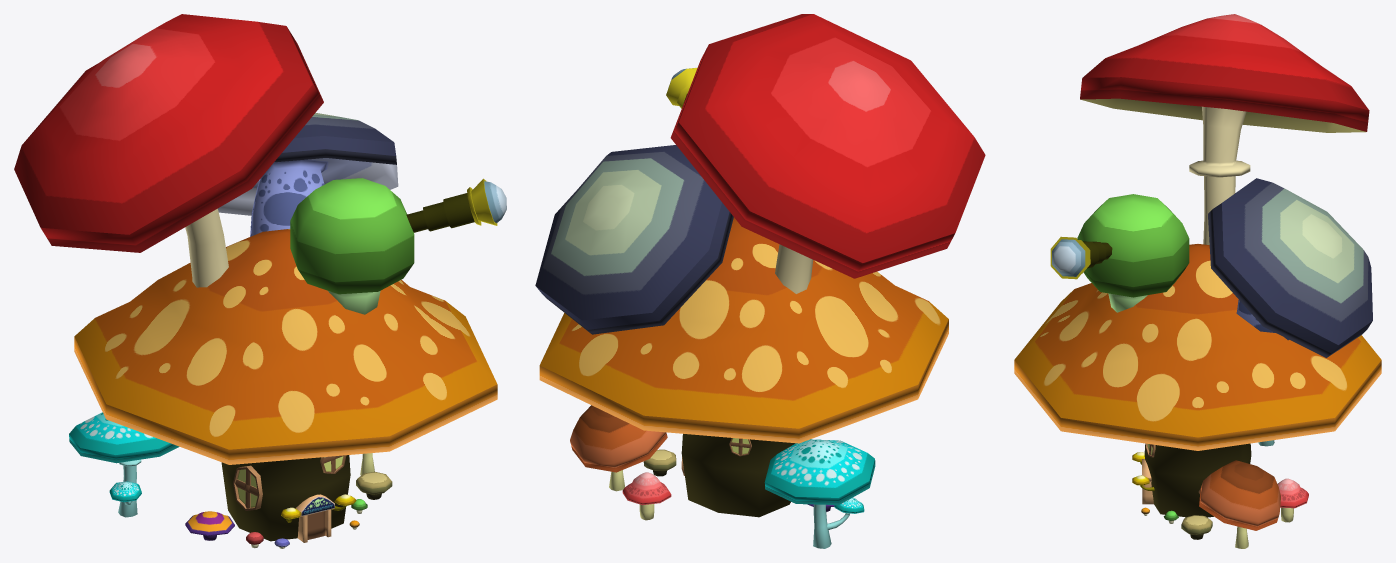
File: cap_observatory.fbx
3 views of the same model, side by side, from view 1: azimuth 30°, elevation 25°; view 2: azimuth 150°, elevation 25°; view 3: azimuth 270°, elevation 25° (orthographic). The views are drawn at different scales.
Visible parts, largest first — view 1: polySurface125, polySurface126, polySurface127, polySurface124, polySurface131, polySurface128, polySurface143, polySurface140, polySurface134, polySurface133; view 2: polySurface125, polySurface126, polySurface124, polySurface131, polySurface146, polySurface141, polySurface128, polySurface133; view 3: polySurface125, polySurface126, polySurface124, polySurface127, polySurface146, polySurface128, polySurface141, polySurface133.
Boxes of the visible parts, x1,y1,x2,y2 form: polySurface125: (74, 229, 497, 541); polySurface126: (14, 14, 323, 287); polySurface127: (290, 178, 414, 314); polySurface124: (218, 112, 398, 236); polySurface131: (69, 412, 179, 517); polySurface128: (406, 178, 506, 232); polySurface143: (233, 465, 262, 510); polySurface140: (185, 511, 234, 540); polySurface134: (297, 509, 331, 542); polySurface133: (356, 472, 392, 499); polySurface125: (539, 217, 948, 517); polySurface126: (670, 14, 985, 293); polySurface124: (535, 145, 733, 334); polySurface131: (764, 439, 875, 548); polySurface146: (570, 405, 667, 491); polySurface141: (622, 472, 671, 520); polySurface128: (666, 67, 697, 108); polySurface133: (643, 449, 676, 476); polySurface125: (1014, 244, 1381, 517); polySurface126: (1080, 14, 1369, 244); polySurface124: (1208, 178, 1372, 357); polySurface127: (1077, 194, 1189, 312); polySurface146: (1199, 460, 1280, 548); polySurface128: (1050, 236, 1112, 279); polySurface141: (1277, 478, 1308, 522); polySurface133: (1181, 515, 1212, 539).
Bounding box in the file's own units: 22.36 × 25.26 × 19.53.
